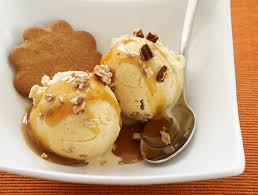ice-cream: (26, 71, 121, 159), (101, 34, 183, 121)
